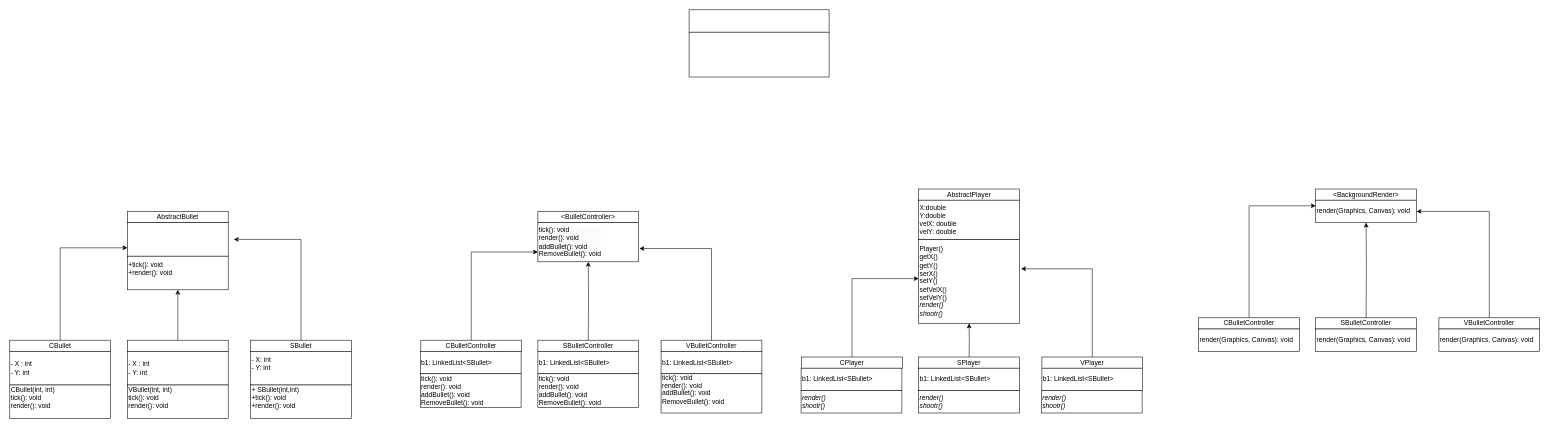
The diagram is 1550 pixels wide and 428 high, and some of its shapes have lost their labels. The shapes that lost their labels are listed below. From the top down, each one's box as (x1, y1, x2, y2) in pixels, then its label:
(689, 9, 829, 32): Game
(689, 32, 829, 77): main() tick() start() stop()
(127, 222, 228, 256): - corx - cory +Width +Height
(127, 340, 228, 351): VBullet
